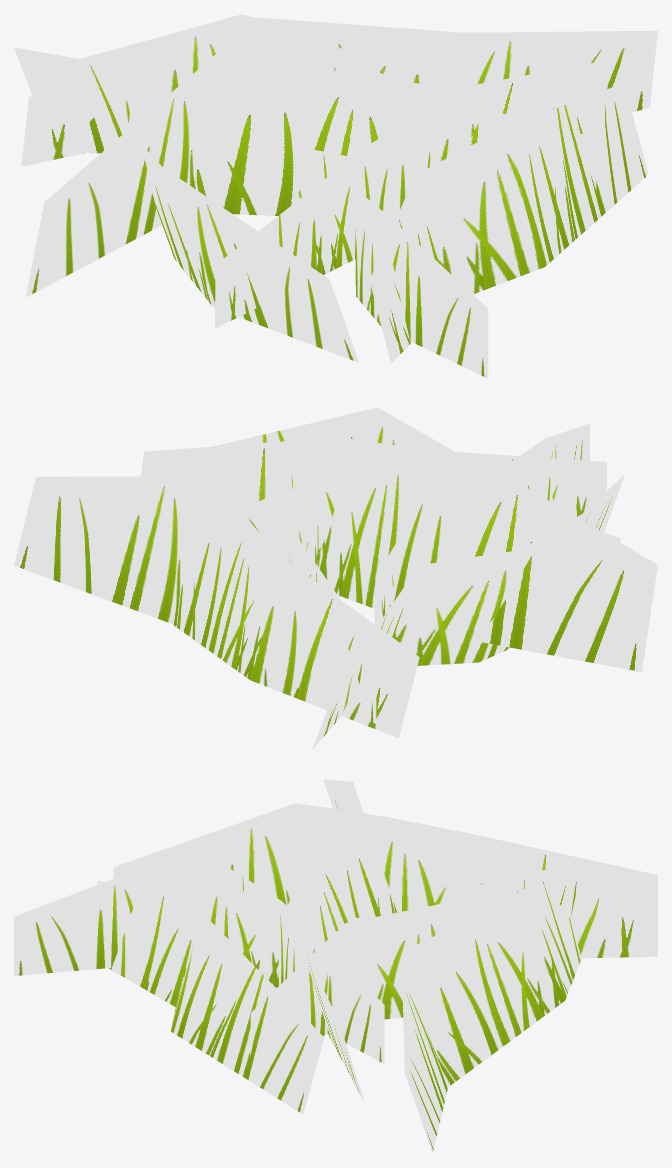
File: SM_Grass_Small01_Unity.fbx
3 views of the same model, one above another, from view 1: azimuth 30°, elevation 25°; view 2: azimuth 150°, elevation 25°; view 3: azimuth 270°, elevation 25° (orthographic). The views are drawn at different scales.
Parts seen in each view (by area): view 1: Grass_Small01_LOD0; view 2: Grass_Small01_LOD0; view 3: Grass_Small01_LOD0.
Boxes of the visible parts, bbox=[...] form: Grass_Small01_LOD0: bbox=[14, 14, 657, 378]; Grass_Small01_LOD0: bbox=[14, 407, 657, 749]; Grass_Small01_LOD0: bbox=[14, 779, 657, 1152].
Size of what is drawn, in the model's own units: 2.4 by 0.754 by 2.37.
